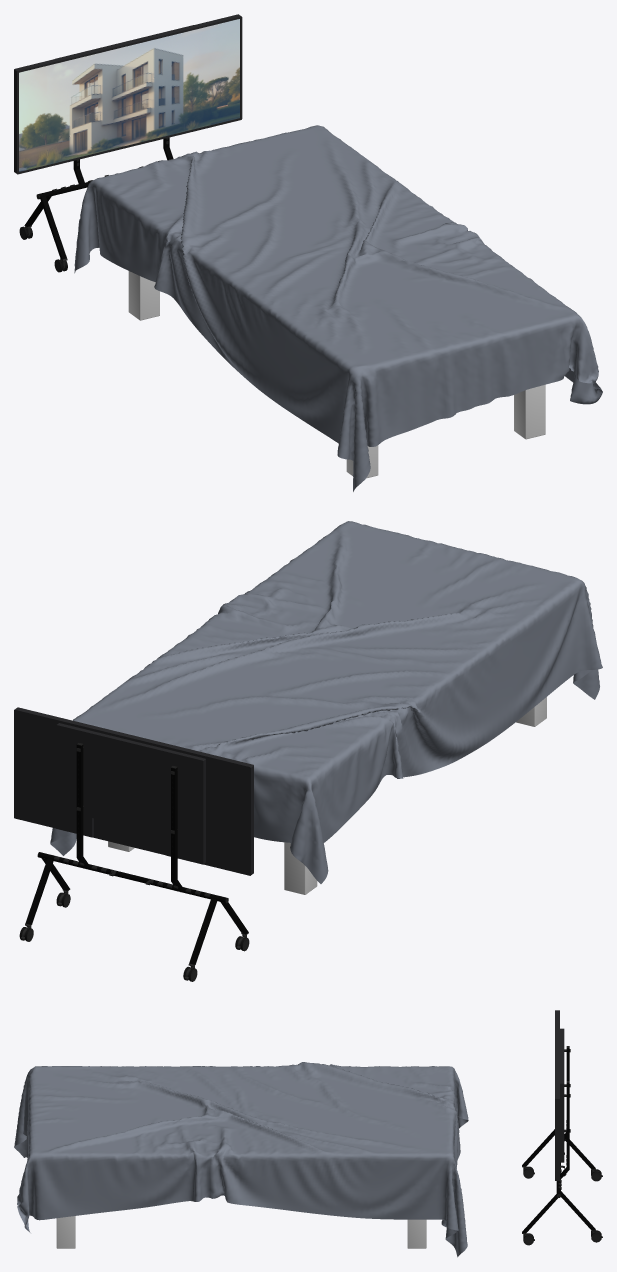
The model's file is meeting_area.glb.
The picture shows the model from 3 angles, top to bottom: view 1: azimuth 30°, elevation 25°; view 2: azimuth 150°, elevation 25°; view 3: azimuth 270°, elevation 25°; orthographic projection. The views are drawn at different scales.
Visible parts, largest first — view 1: meeting_table_mesh, Display Screen_2, Display Body_0, H1053 XL_1; view 2: meeting_table_mesh, Display Body_0, H1053 XL_1; view 3: meeting_table_mesh, H1053 XL_1, Display Body_0.
Boxes of the visible parts, x1,y1,x2,y2 form: meeting_table_mesh: (74,125,602,491); Display Screen_2: (19,19,239,171); Display Body_0: (14,14,242,174); H1053 XL_1: (19,137,173,272); meeting_table_mesh: (50,521,602,894); Display Body_0: (14,707,253,875); H1053 XL_1: (19,743,249,981); meeting_table_mesh: (14,1062,468,1257); H1053 XL_1: (522,1046,602,1245); Display Body_0: (555,1010,564,1180).
Bounding box in the file's own units: 2.93 × 2.08 × 7.1.
6 materials, 2 textured.
